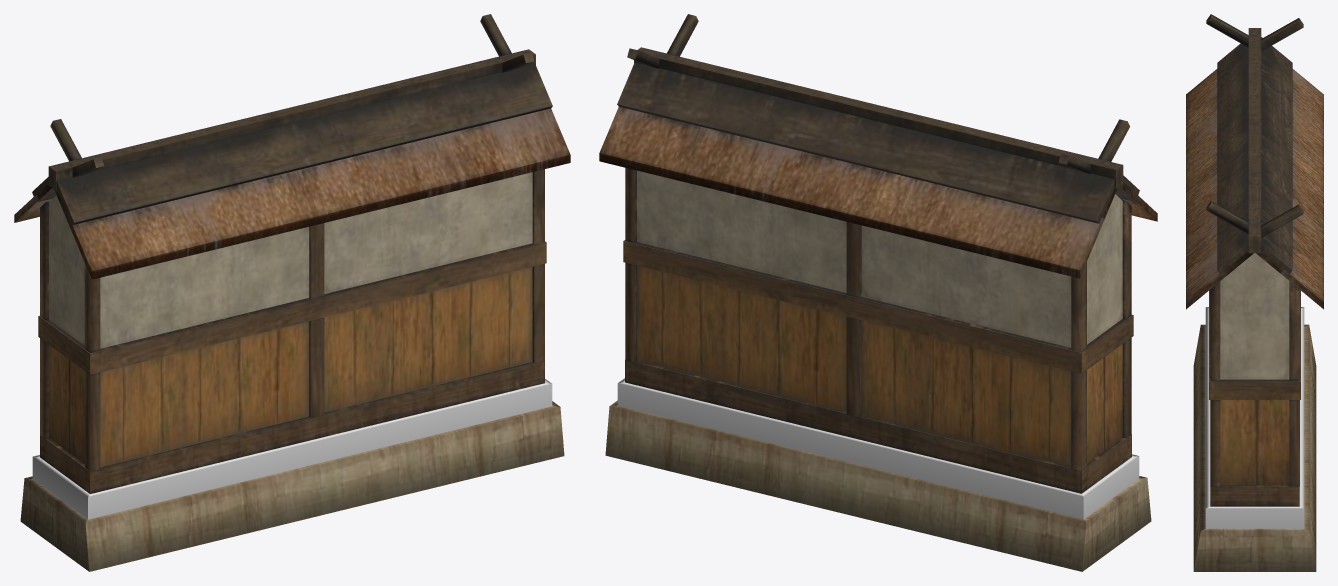
The model's file is 69-stonewall-wall_stone_j_short.glb.
3 views of the same model, side by side, from view 1: azimuth 30°, elevation 25°; view 2: azimuth 150°, elevation 25°; view 3: azimuth 270°, elevation 25° (orthographic). The views are drawn at different scales.
Bounding box in the file's own units: 5.23 × 4.19 × 1.46.
Materials: 1 (1 with a texture image).
